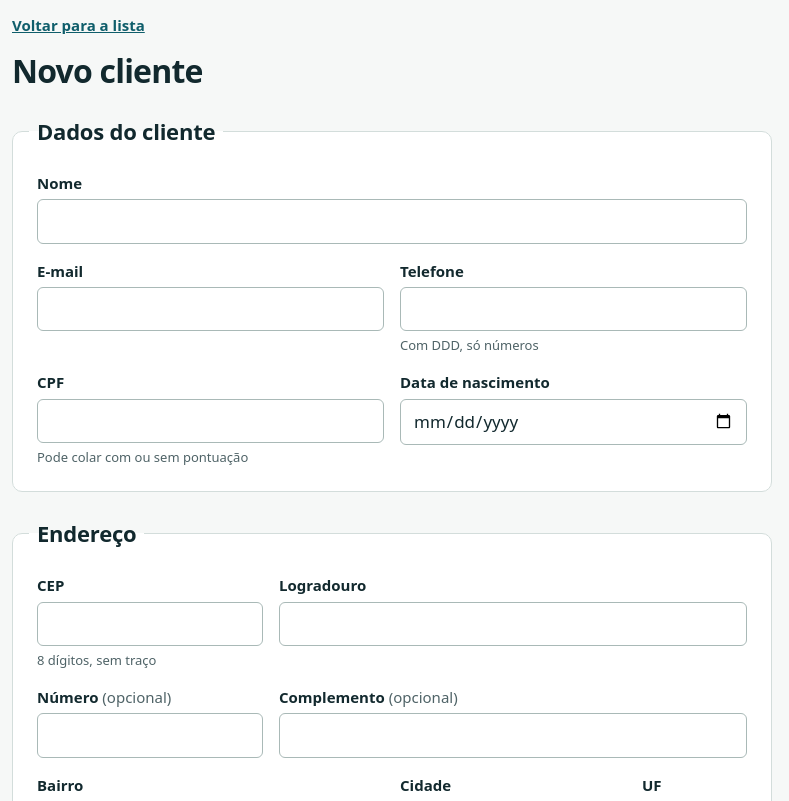
Test case: FormularioCliente (cadastro) › deveMostrarCpfComMascaraQuandoColar
Click the field labelled "CPF": (210, 421) [37,399,384,443]
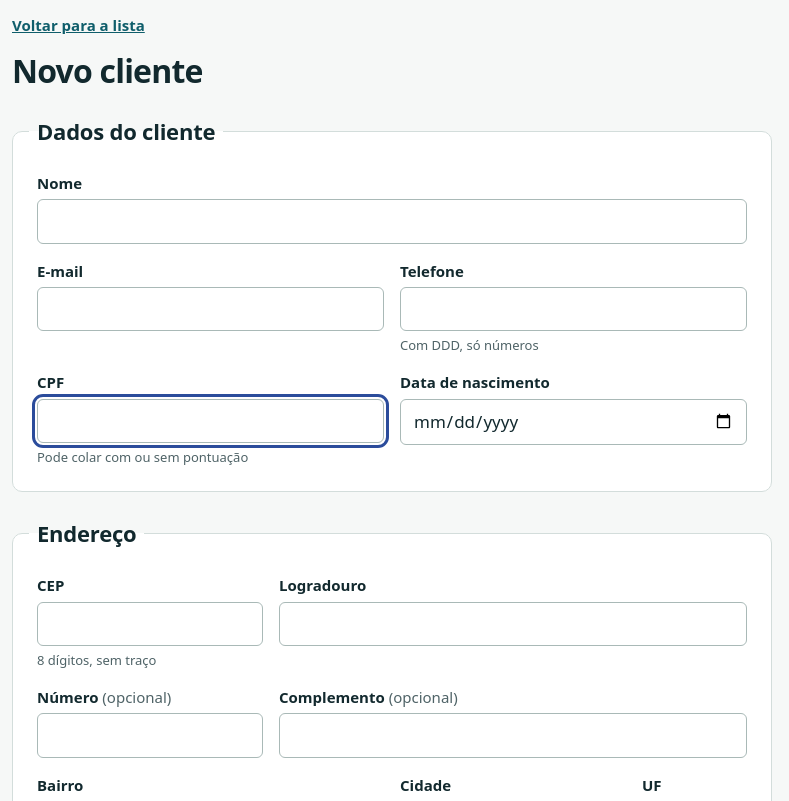
Type keys "52998224725"
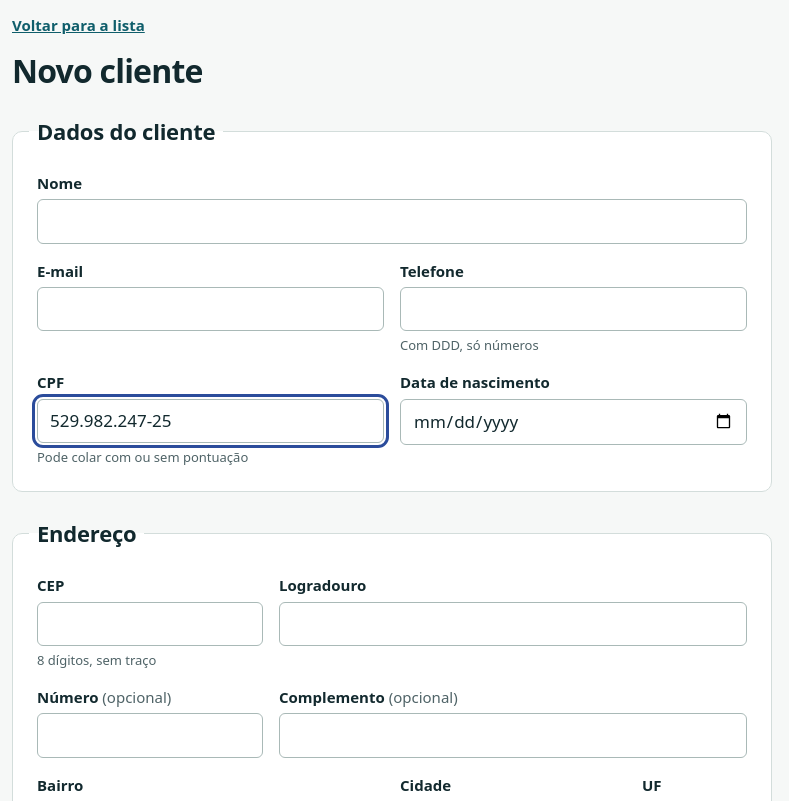
Now the field labelled "CPF" holds "529.982.247-25", box [37,399,384,443]
